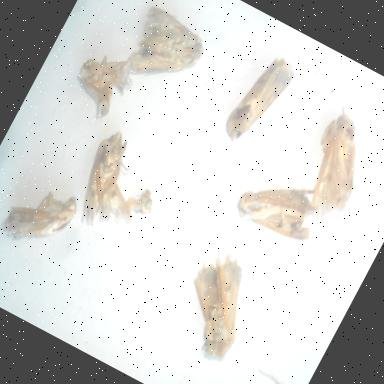abw: (155, 234, 277, 374), (55, 121, 168, 248), (281, 95, 384, 233), (226, 154, 335, 256), (214, 40, 306, 158), (112, 0, 216, 104), (0, 163, 91, 272), (58, 37, 144, 128)
